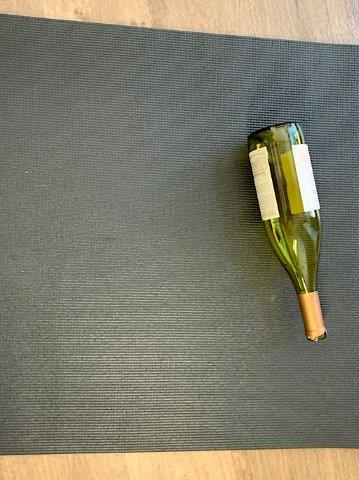botolkaca: (247, 120, 329, 341)
